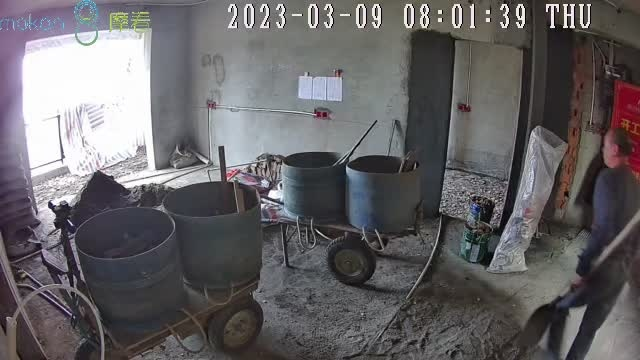people: (549, 127, 640, 359)
window: (25, 36, 149, 182)
